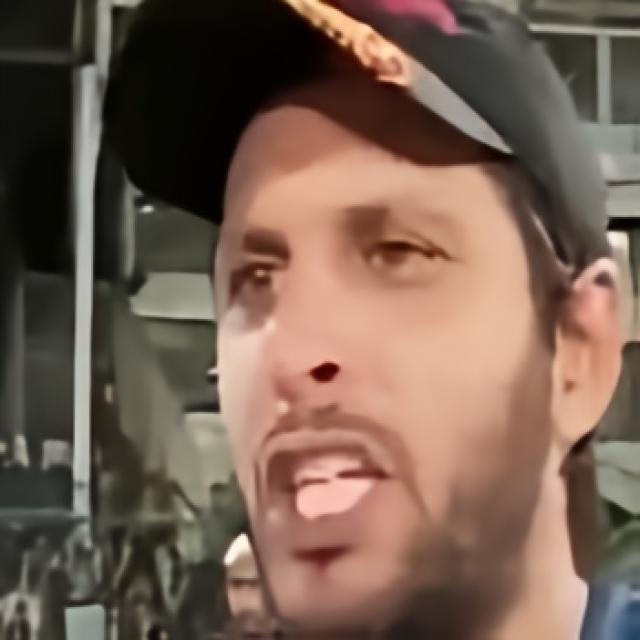disgust: (212, 70, 550, 640)
